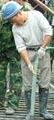boots: (5, 104, 15, 113), (23, 112, 32, 120)
gloves: (0, 61, 11, 76), (27, 62, 36, 74)
hard-hat: (1, 0, 23, 20)
ppe-suit: (0, 31, 27, 120)
